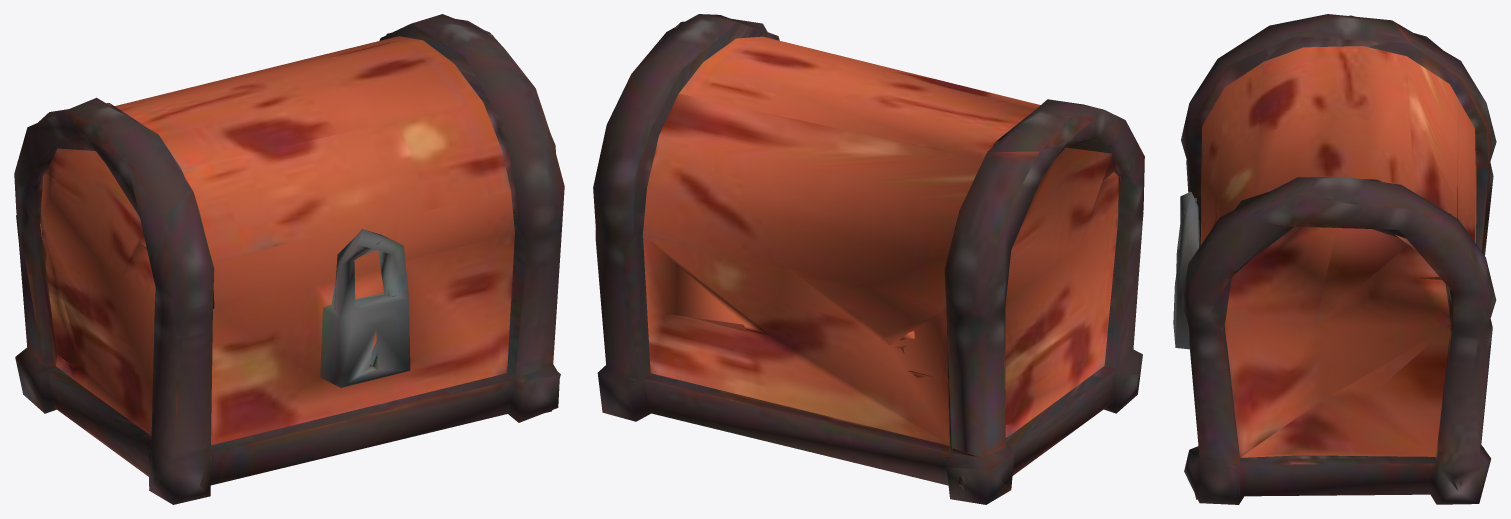
Rendered from lg-dungeon-chest.glb.
3 views of the same model, side by side, from view 1: azimuth 30°, elevation 25°; view 2: azimuth 150°, elevation 25°; view 3: azimuth 270°, elevation 25° (orthographic). The views are drawn at different scales.
Visible parts, largest first — view 1: geometry_0; view 2: geometry_0; view 3: geometry_0.
Part boxes in pixels (x1=…): geometry_0: x1=14, y1=14, x2=564, y2=504; geometry_0: x1=593, y1=14, x2=1144, y2=504; geometry_0: x1=1173, y1=14, x2=1496, y2=504.
Bounding box in the file's own units: 1 × 0.8002 × 0.7341.
1 material, 1 textured.
